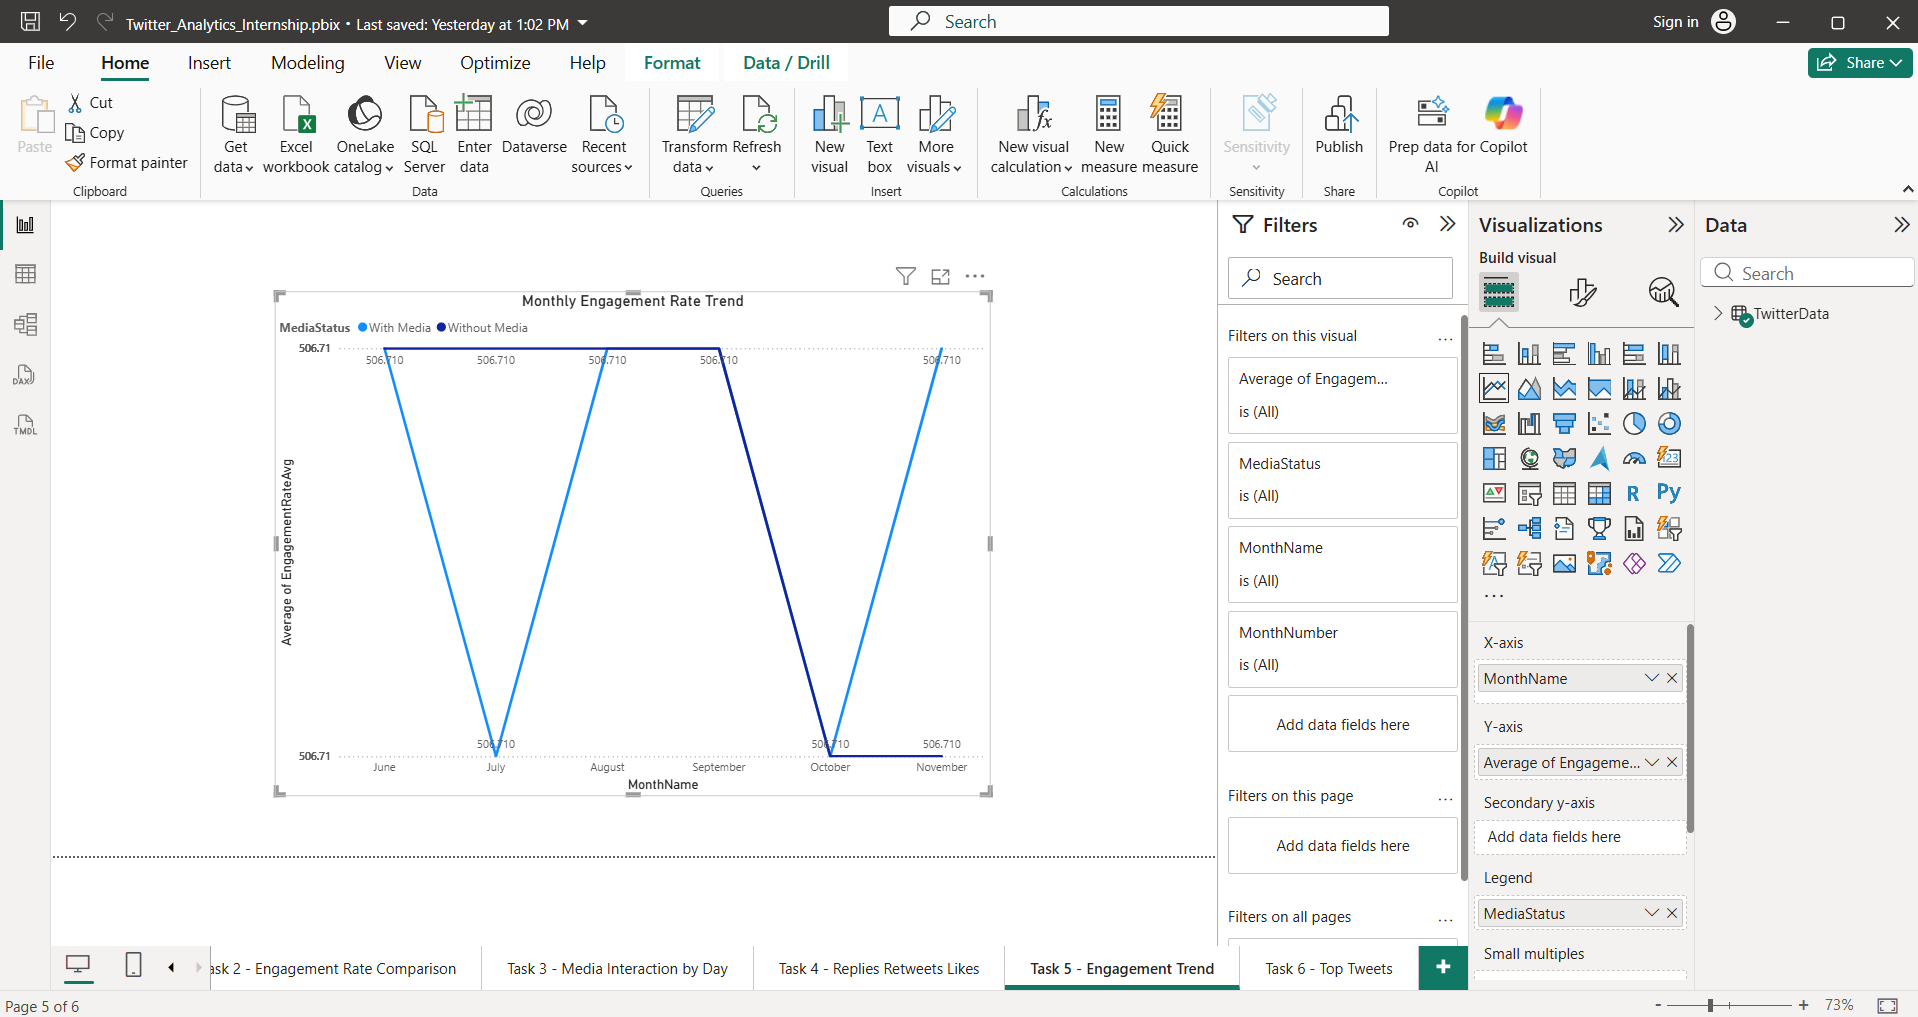

This screenshot's page, from the dashboard's own definition file:
{"tool":"powerbi","page":{"name":"Task 5 - Engagement Trend","canvas":[1280,720],"ordinal":4},"visuals":[{"type":"lineChart","title":"Monthly Engagement Rate Trend","fields":{"Category":["TwitterData.MonthName"],"Y":["Avg(TwitterData.EngagementRateAvg)"],"Series":["TwitterData.MediaStatus"]},"box":[100,33.3,786.7,554.4],"z":0}]}

Visuals, with their boxes on the page's 1280x720 design canvas (x1, y1, x2, y2). These are canvas units, not pixel positions in the 1918x1017 screenshot, which may show the page scaled, cropped or inside an application window:
"Monthly Engagement Rate Trend" lineChart: x1=100, y1=33, x2=887, y2=588
